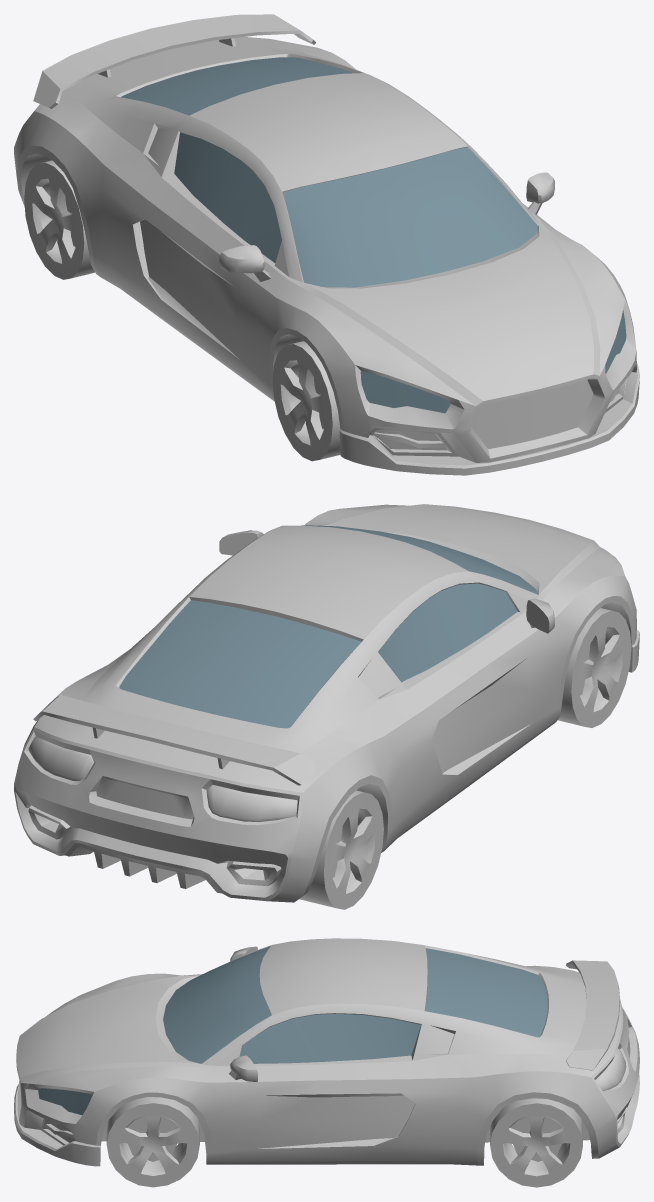
3 views of the same model, one above another, from view 1: azimuth 30°, elevation 25°; view 2: azimuth 150°, elevation 25°; view 3: azimuth 270°, elevation 25° (orthographic). The views are drawn at different scales.
Visible parts, largest first — view 1: Body_1, Glass_1, Matte_1, Wheel_R, Wheel_Back_R, Glass_light; view 2: Body_1, Glass_1, Matte_1, Wheel_R, Wheel_Back_R, Taillights_1; view 3: Body_1, Glass_1, Matte_1, Wheel_L, Wheel_Back_L, Glass_light, Taillights_1, break_L.
Boxes of the visible parts, x1,y1,x2,y2 form: Body_1: (14, 37, 636, 462); Glass_1: (121, 57, 537, 287); Matte_1: (21, 14, 639, 475); Wheel_R: (272, 341, 340, 461); Wheel_Back_R: (24, 160, 94, 279); Glass_light: (360, 309, 626, 413); Body_1: (14, 504, 636, 902); Glass_1: (119, 525, 537, 728); Matte_1: (28, 530, 639, 893); Wheel_R: (558, 608, 631, 727); Wheel_Back_R: (299, 790, 383, 909); Taillights_1: (28, 736, 297, 821); Body_1: (16, 938, 639, 1165); Glass_1: (163, 946, 547, 1063); Matte_1: (14, 946, 625, 1166); Wheel_L: (106, 1097, 199, 1187); Wheel_Back_L: (490, 1098, 582, 1187); Glass_light: (38, 1088, 91, 1114); Taillights_1: (595, 1049, 626, 1090); break_L: (128, 1117, 176, 1161).
Size of the model in its own units: 2.08 by 1.3 by 4.43.
